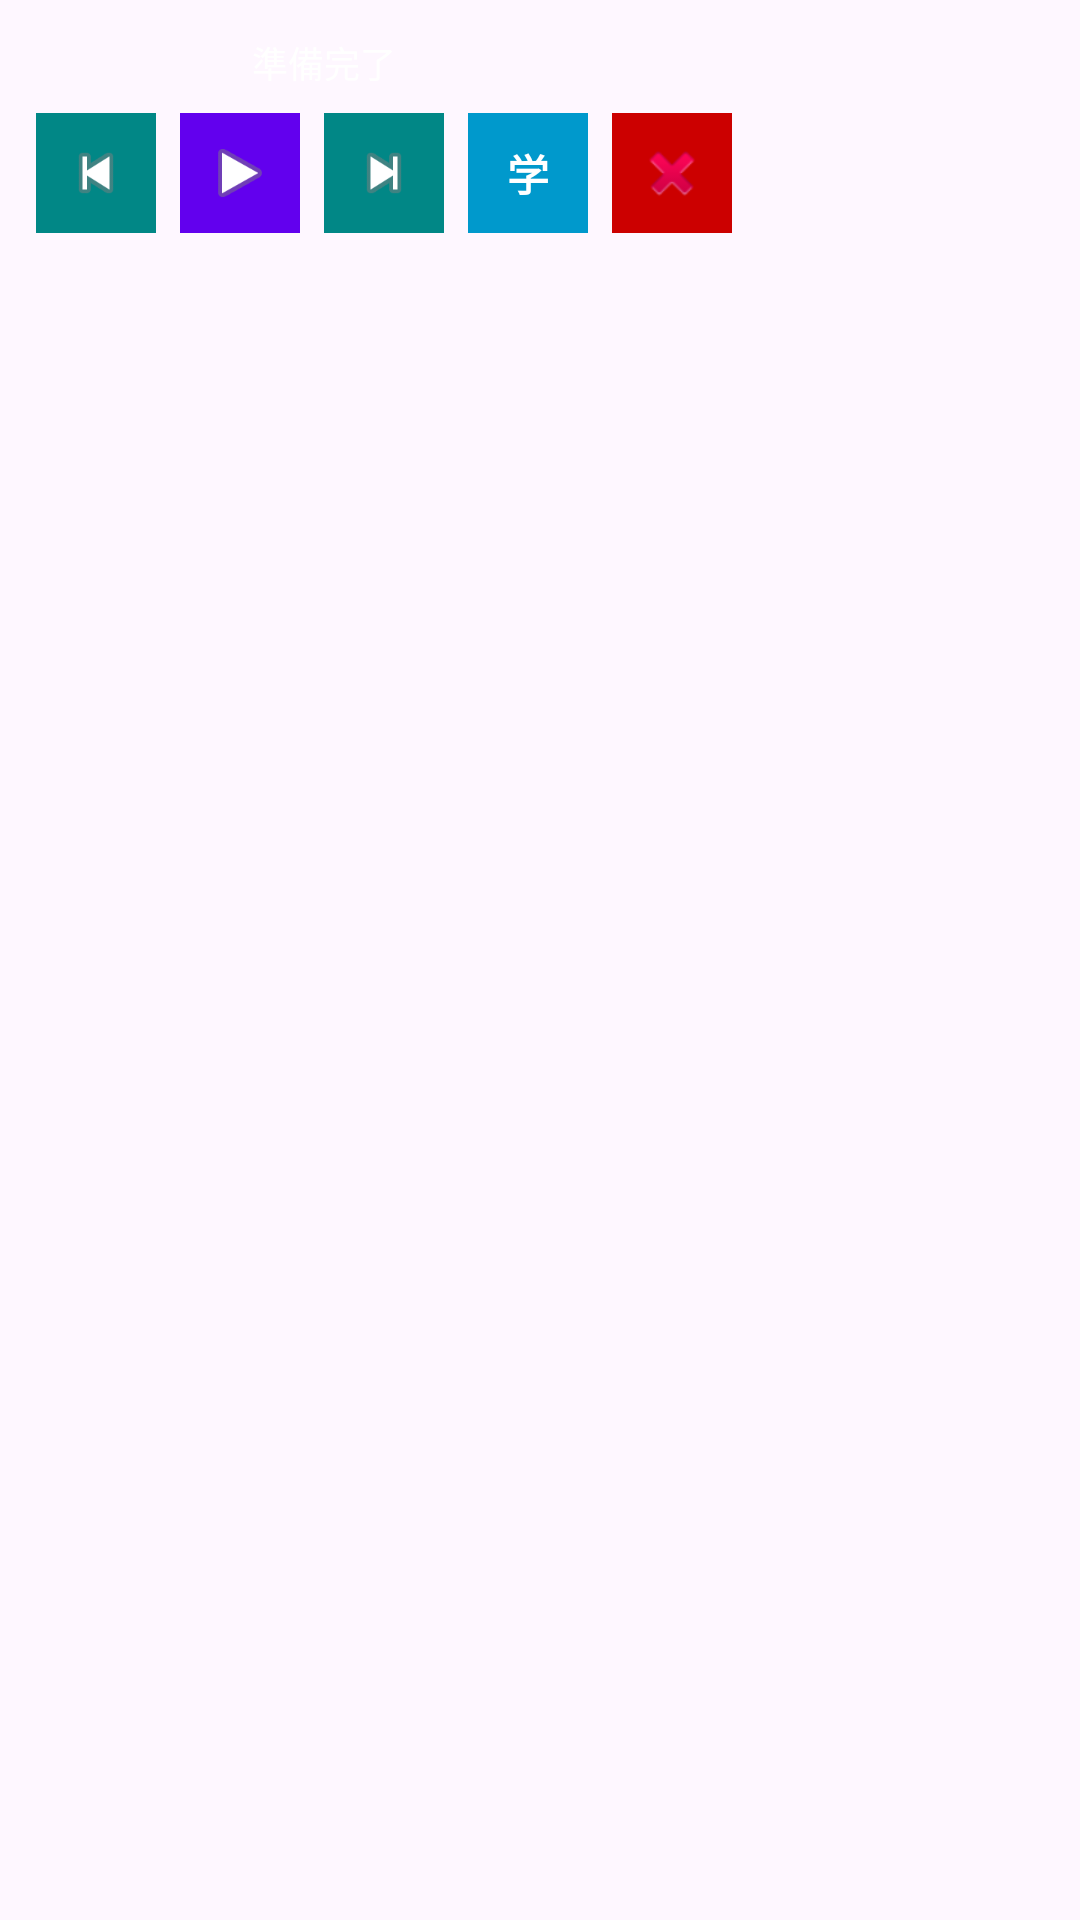

Icon bounding boxes for this 1080×1920 phone screenshot, format (left=x1, top=y1, right=x2, bottom=y2):
再生/一時停止: (left=180, top=113, right=300, bottom=233)
前のページ: (left=36, top=113, right=156, bottom=233)
次のページ: (left=324, top=113, right=444, bottom=233)
閉じる: (left=612, top=113, right=732, bottom=233)
